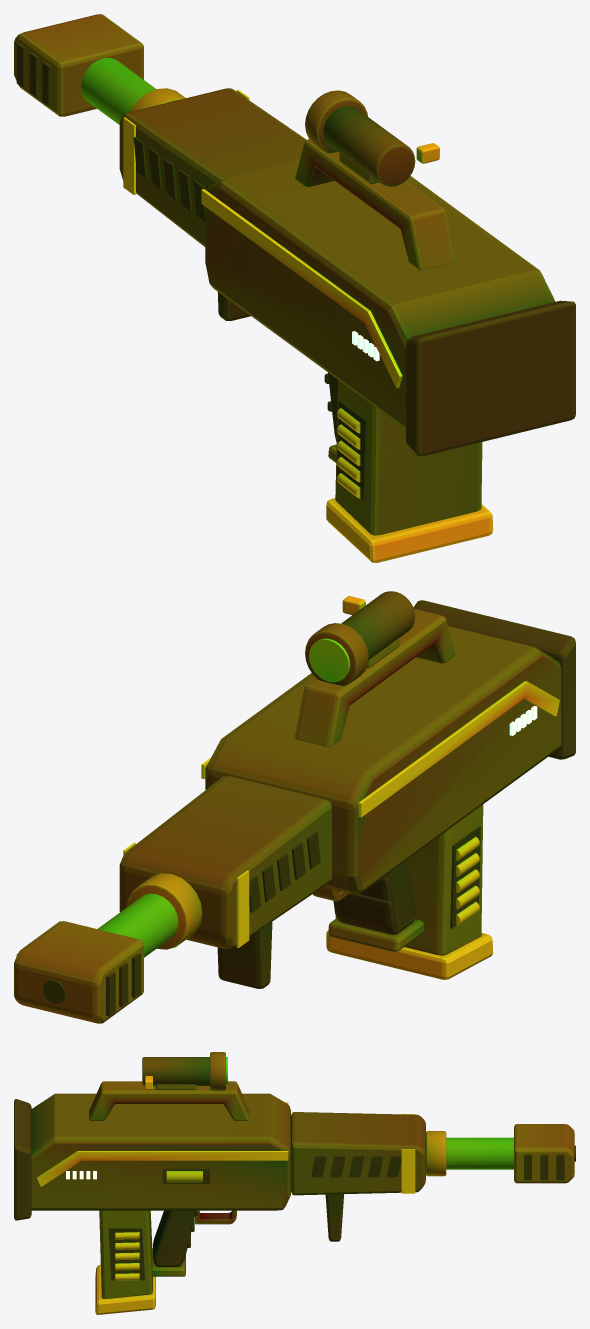
Rendered from titan_weapon_xo16.glb.
3 renders of one model, top to bottom at view 1: azimuth 30°, elevation 25°; view 2: azimuth 150°, elevation 25°; view 3: azimuth 270°, elevation 25°, orthographic. The views are drawn at different scales.
Visible parts, largest first — view 1: Body, Barrels; view 2: Body, Barrels; view 3: Body, Barrels.
Part boxes in pixels (x1,y1,x2,y2): Body: (119, 88, 575, 562); Barrels: (14, 14, 185, 124); Body: (119, 591, 575, 988); Barrels: (14, 873, 202, 1023); Body: (14, 1052, 425, 1314); Barrels: (426, 1124, 575, 1183).
Size of the model in its own units: 0.6747 by 1.49 by 3.12.
